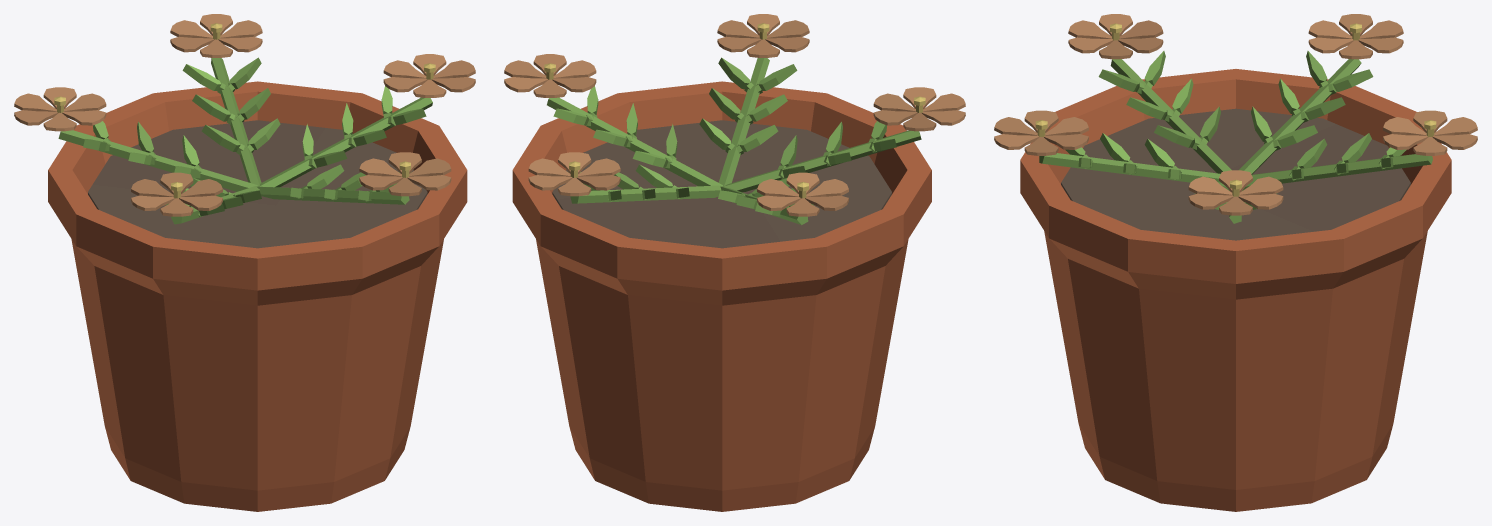
The model's file is portulaca.glb.
The picture shows the model from 3 angles, left to right: view 1: azimuth 30°, elevation 25°; view 2: azimuth 150°, elevation 25°; view 3: azimuth 270°, elevation 25°; orthographic projection. The views are drawn at different scales.
Visible parts, largest first — view 1: portulaca/review-terra-vessel, portulaca/review-rooted-soil, portulaca/petiole-043, portulaca/petiole-001, portulaca/petiole-022, portulaca/petiole-085, portulaca/petal-101, portulaca/petal-103, portulaca/petal-017, portulaca/petal-019, portulaca/petal-061, portulaca/petal-059 (+4 smaller); view 2: portulaca/review-terra-vessel, portulaca/review-rooted-soil, portulaca/petiole-064, portulaca/petiole-001, portulaca/petiole-085, portulaca/petiole-022, portulaca/petal-036, portulaca/petal-038, portulaca/petal-015, portulaca/petal-017, portulaca/petal-078, portulaca/petal-080 (+4 smaller); view 3: portulaca/review-terra-vessel, portulaca/review-rooted-soil, portulaca/petiole-085, portulaca/petiole-022, portulaca/petiole-043, portulaca/petiole-064, portulaca/petal-036, portulaca/petal-103, portulaca/petal-040, portulaca/petal-099, portulaca/petal-015, portulaca/petal-019 (+4 smaller).
Boxes of the visible parts, x1,y1,x2,y2 form: portulaca/review-terra-vessel: (48, 81, 467, 511); portulaca/review-rooted-soil: (88, 120, 427, 248); portulaca/petiole-043: (58, 130, 257, 191); portulaca/petiole-001: (258, 97, 432, 187); portulaca/petiole-022: (211, 58, 261, 186); portulaca/petiole-085: (257, 186, 409, 204); portulaca/petal-101: (409, 158, 451, 176); portulaca/petal-103: (359, 158, 401, 176); portulaca/petal-017: (433, 60, 475, 78); portulaca/petal-019: (383, 60, 426, 78); portulaca/petal-061: (14, 93, 56, 111); portulaca/petal-059: (64, 93, 106, 111); portulaca/review-terra-vessel: (512, 81, 931, 511); portulaca/review-rooted-soil: (552, 120, 891, 248); portulaca/petiole-064: (722, 130, 921, 192); portulaca/petiole-001: (547, 97, 722, 186); portulaca/petiole-085: (718, 58, 769, 186); portulaca/petiole-022: (570, 185, 721, 203); portulaca/petal-036: (578, 158, 620, 176); portulaca/petal-038: (528, 158, 570, 176); portulaca/petal-015: (553, 60, 596, 78); portulaca/petal-017: (504, 60, 546, 78); portulaca/petal-078: (923, 93, 965, 111); portulaca/petal-080: (873, 93, 915, 111); portulaca/review-terra-vessel: (1020, 69, 1451, 511); portulaca/review-rooted-soil: (1061, 108, 1410, 240); portulaca/petiole-085: (1039, 153, 1221, 182); portulaca/petiole-022: (1250, 154, 1432, 183); portulaca/petiole-043: (1239, 59, 1361, 174); portulaca/petiole-064: (1110, 59, 1231, 173); portulaca/petal-036: (1383, 117, 1426, 135); portulaca/petal-103: (1045, 117, 1088, 135); portulaca/petal-040: (1434, 117, 1477, 135); portulaca/petal-099: (994, 117, 1037, 135); portulaca/petal-015: (1188, 176, 1232, 195); portulaca/petal-019: (1239, 176, 1283, 195).
Bounding box in the file's own units: 0.2071 × 0.172 × 0.213.
Materials: 5 (5 with a texture image).
